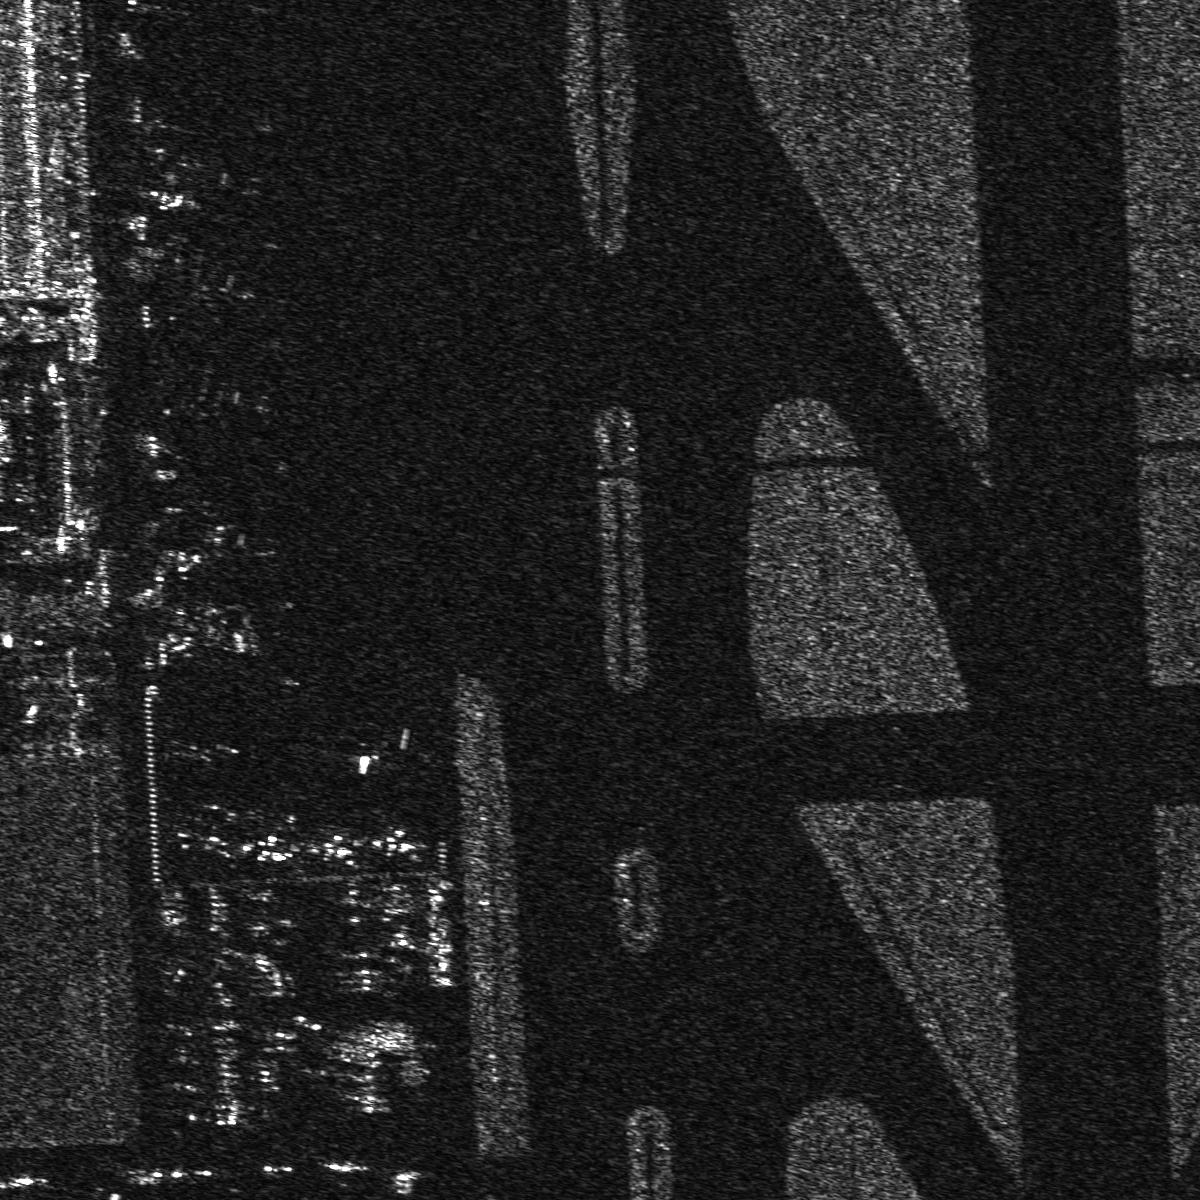A220: (158, 520, 278, 592)
A320/321: (152, 357, 279, 460)
ARJ21: (242, 831, 300, 864)
other: (173, 265, 260, 331), (307, 826, 363, 868), (371, 825, 427, 865)
